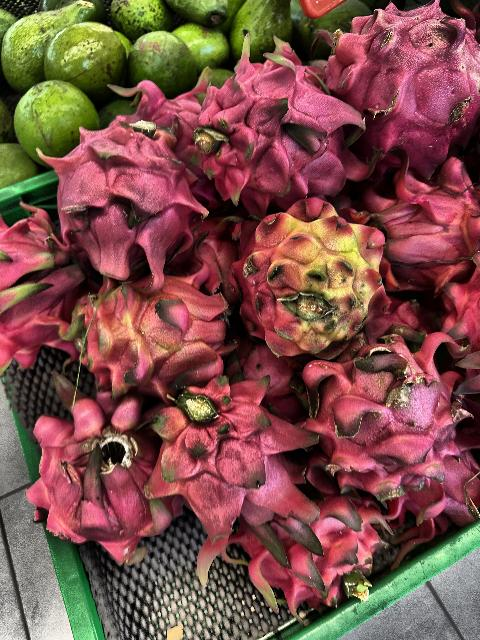buah-naga-belum-matang: (227, 204, 385, 350), (60, 268, 234, 384)
buah-naga-matang: (23, 365, 181, 559), (316, 0, 480, 168), (191, 61, 366, 216), (138, 376, 310, 530), (42, 123, 197, 271), (301, 343, 460, 487), (348, 165, 480, 275), (1, 204, 74, 373)
